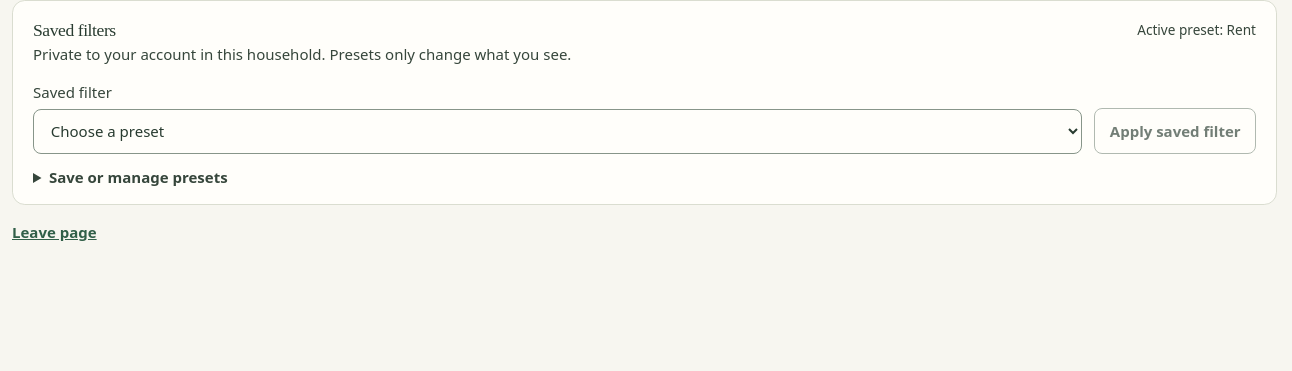
Test: private saved transaction filters › rechecks references at apply time and stages unavailable choices without searching
Select "Rent" in the dropdown labelled "Saved filter" at [558, 131], box [33,109,1082,154]
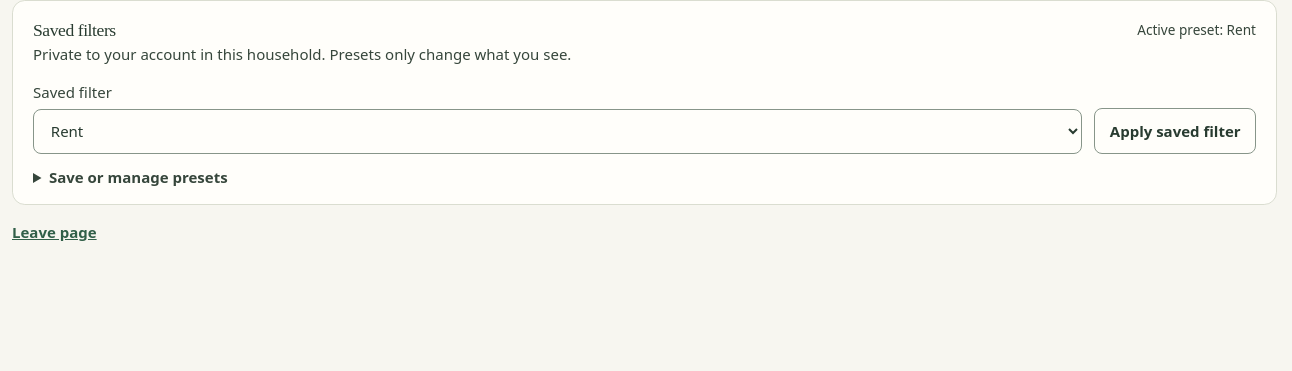
Click the button "Apply saved filter".
click(1175, 131)  # box [1094,108,1256,154]
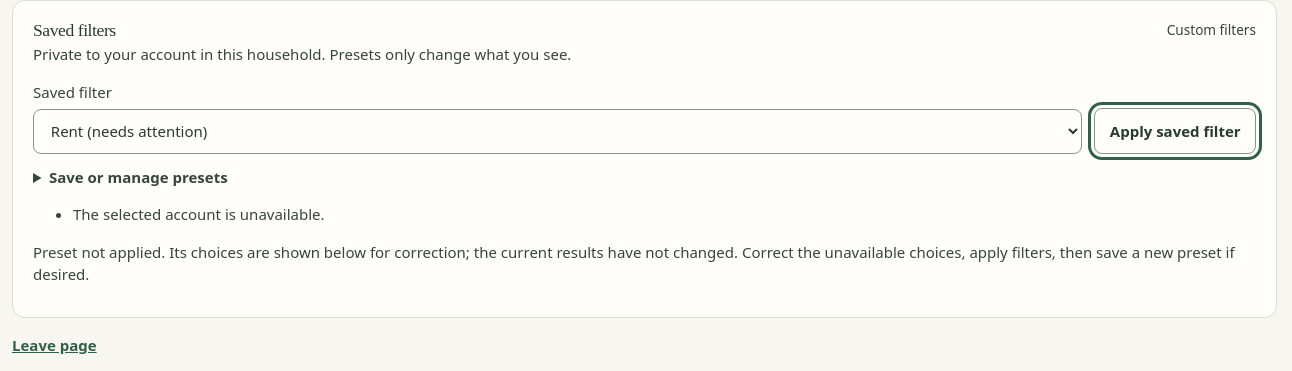
Now the text "Preset not applied" is shown, box [33,242,1235,284]
Now the list item "The selected account is unavailable." is shown, box [73,204,325,224]
